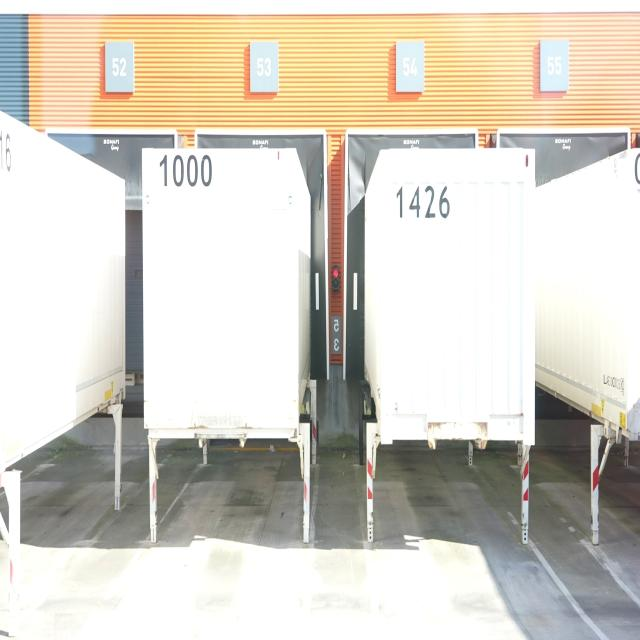Code: (156, 149, 214, 192), (393, 182, 451, 225)
